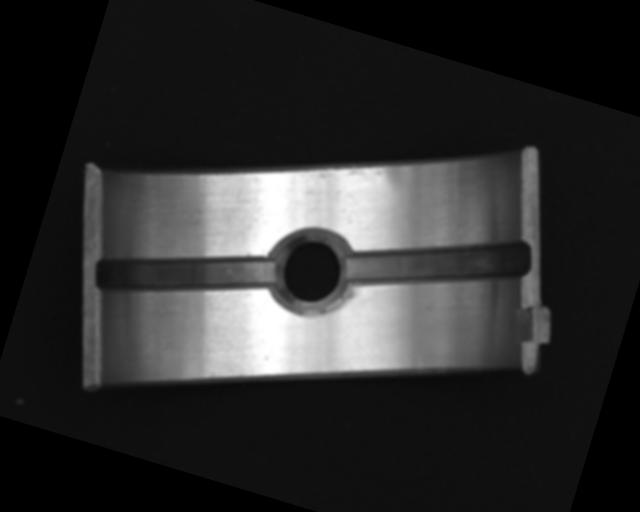gap: (342, 197, 530, 330), (89, 211, 277, 336)
hole: (257, 217, 363, 327)
